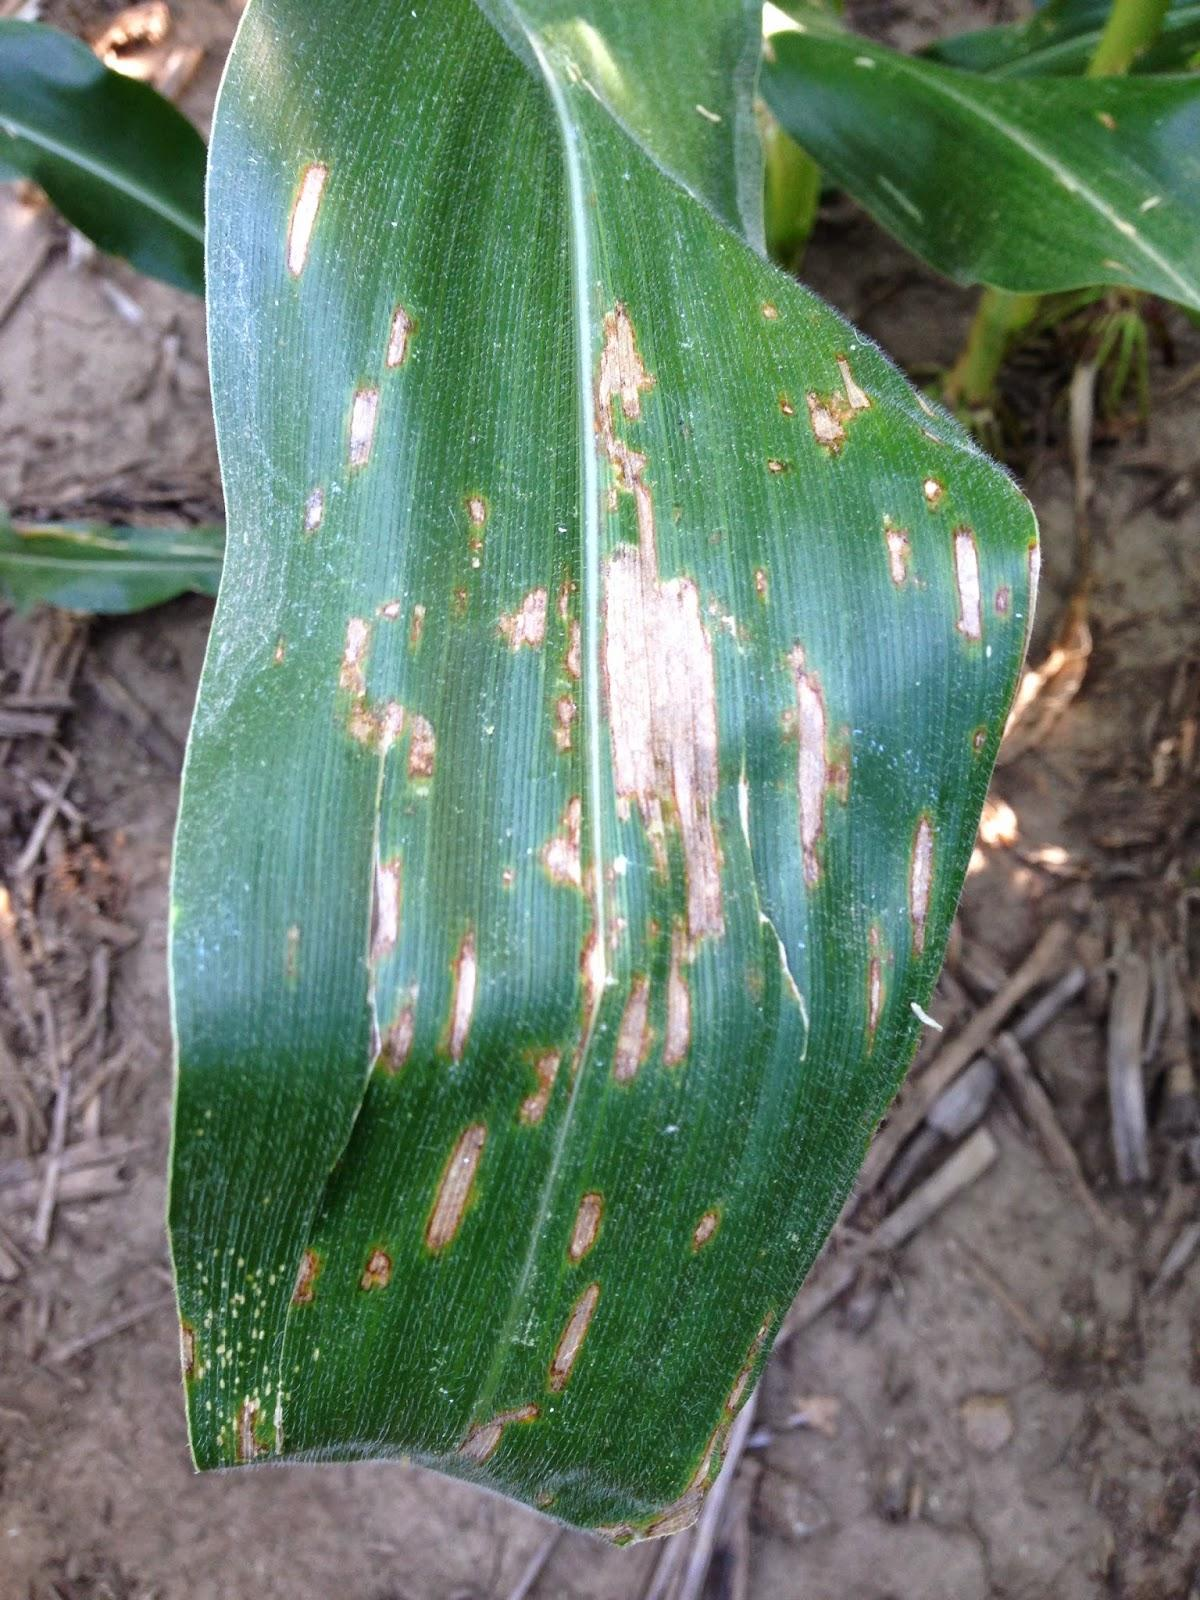Corn leaf blight: (155, 4, 971, 1600)
